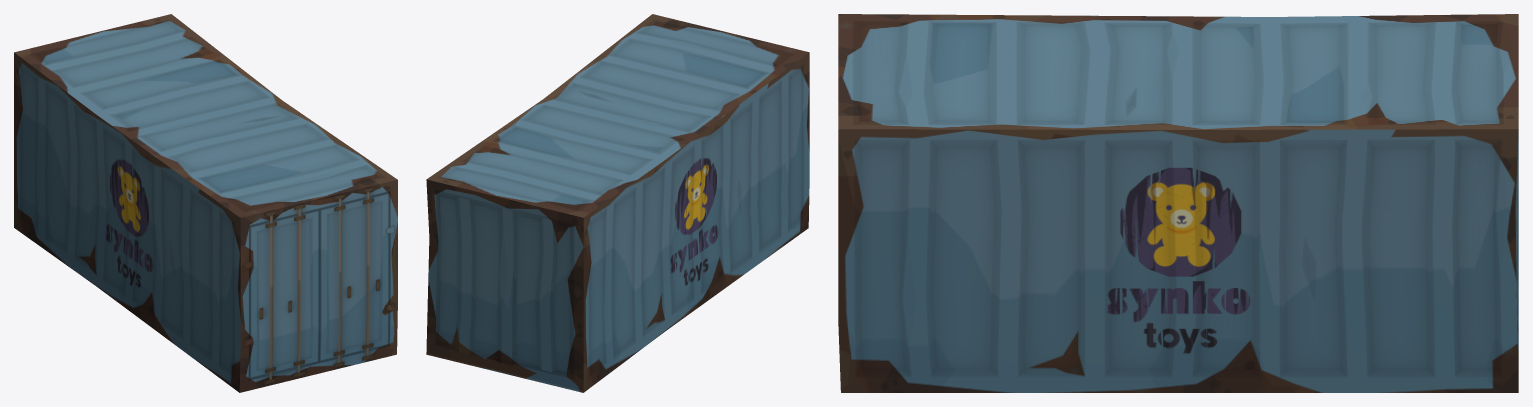
File: SM_Prop_Container_04.fbx
The picture shows the model from 3 angles, left to right: view 1: azimuth 30°, elevation 25°; view 2: azimuth 150°, elevation 25°; view 3: azimuth 270°, elevation 25°; orthographic projection. The views are drawn at different scales.
Parts seen in each view (by area): view 1: SM_Prop_Container_04; view 2: SM_Prop_Container_04; view 3: SM_Prop_Container_04.
Part boxes in pixels (bbox=[...]): SM_Prop_Container_04: bbox=[14, 14, 397, 392]; SM_Prop_Container_04: bbox=[426, 14, 809, 392]; SM_Prop_Container_04: bbox=[838, 14, 1518, 392].
Size of the model in its own units: 243 by 259 by 606.
